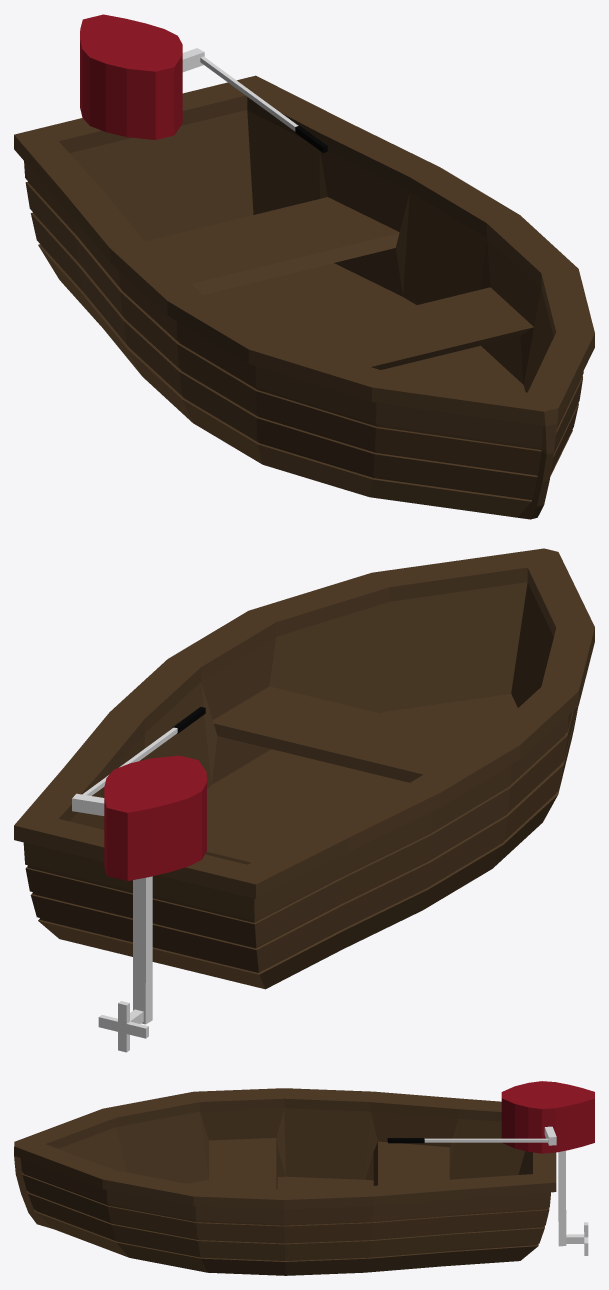
The model's file is Boat.fbx.
3 views of the same model, one above another, from view 1: azimuth 30°, elevation 25°; view 2: azimuth 150°, elevation 25°; view 3: azimuth 270°, elevation 25° (orthographic). The views are drawn at different scales.
Visible parts, largest first — view 1: Cube.001; view 2: Cube.001; view 3: Cube.001.
Boxes of the visible parts, left/top/right/bottom form: Cube.001: left=14, top=14, right=594, bottom=519; Cube.001: left=14, top=548, right=594, bottom=1052; Cube.001: left=14, top=1081, right=594, bottom=1275.
Size of the model in its own units: 363 by 241 by 797.
